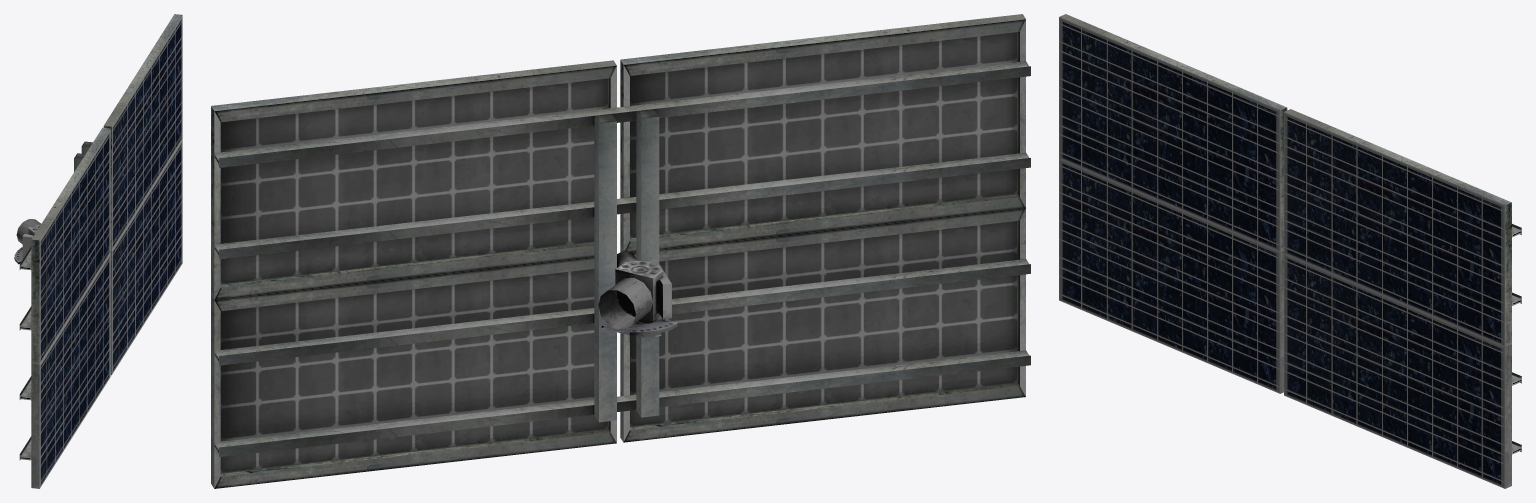
The model's file is machinery_solar_panels_on_post_top_LOD0.obj.
The picture shows the model from 3 angles, left to right: view 1: azimuth 30°, elevation 25°; view 2: azimuth 150°, elevation 25°; view 3: azimuth 270°, elevation 25°; orthographic projection. The views are drawn at different scales.
Parts seen in each view (by area): view 1: mtl_machinery_solar_panels_on_post_metal; view 2: mtl_machinery_solar_panels_on_post_metal; view 3: mtl_machinery_solar_panels_on_post_metal.
Boxes of the visible parts, left/top/right/bottom form: mtl_machinery_solar_panels_on_post_metal: left=14, top=14, right=182, bottom=488; mtl_machinery_solar_panels_on_post_metal: left=211, top=14, right=1030, bottom=488; mtl_machinery_solar_panels_on_post_metal: left=1059, top=14, right=1521, bottom=488.
Size of the model in its own units: 481 by 325 by 481.
